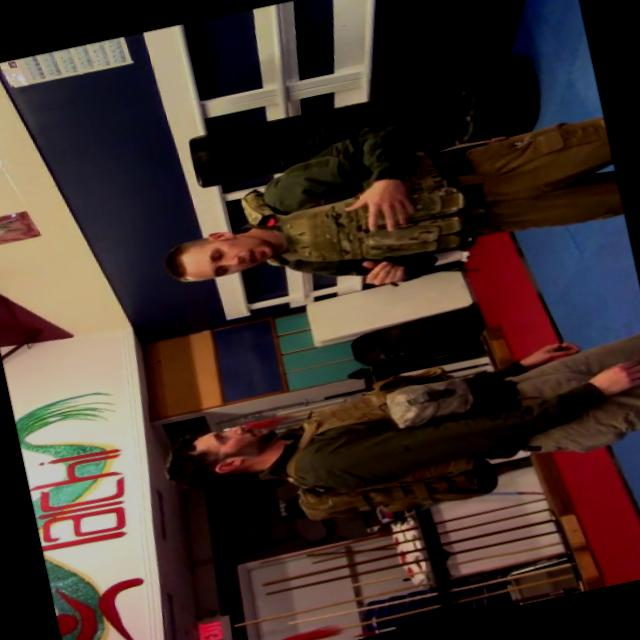knife: (346, 242, 484, 301)
